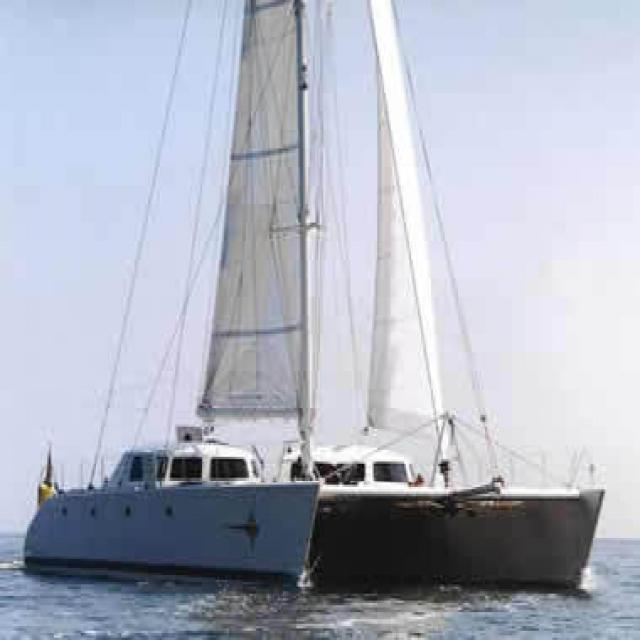Ship: (17, 4, 607, 595)
